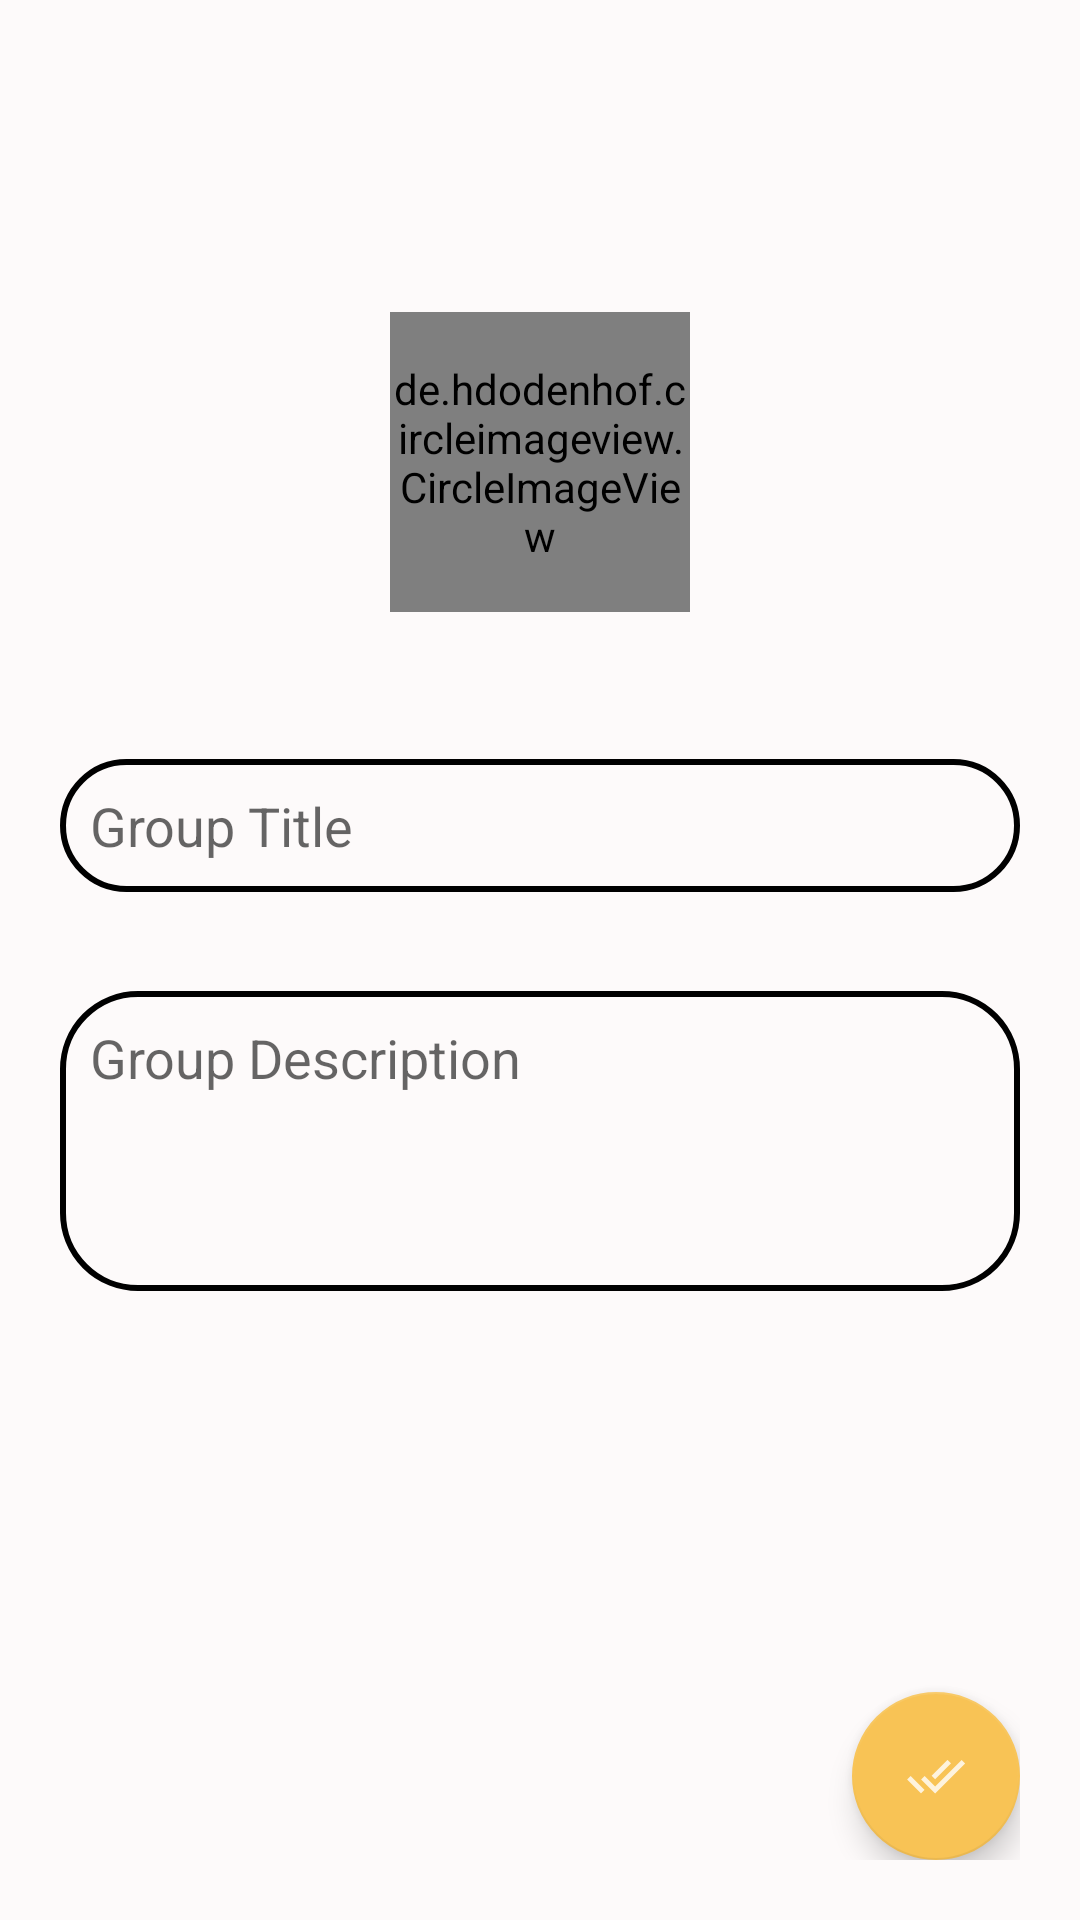

Screen size 1080px×1920px. Icon name, then its center in pixels as [x,y]:
done: [936,1776]
